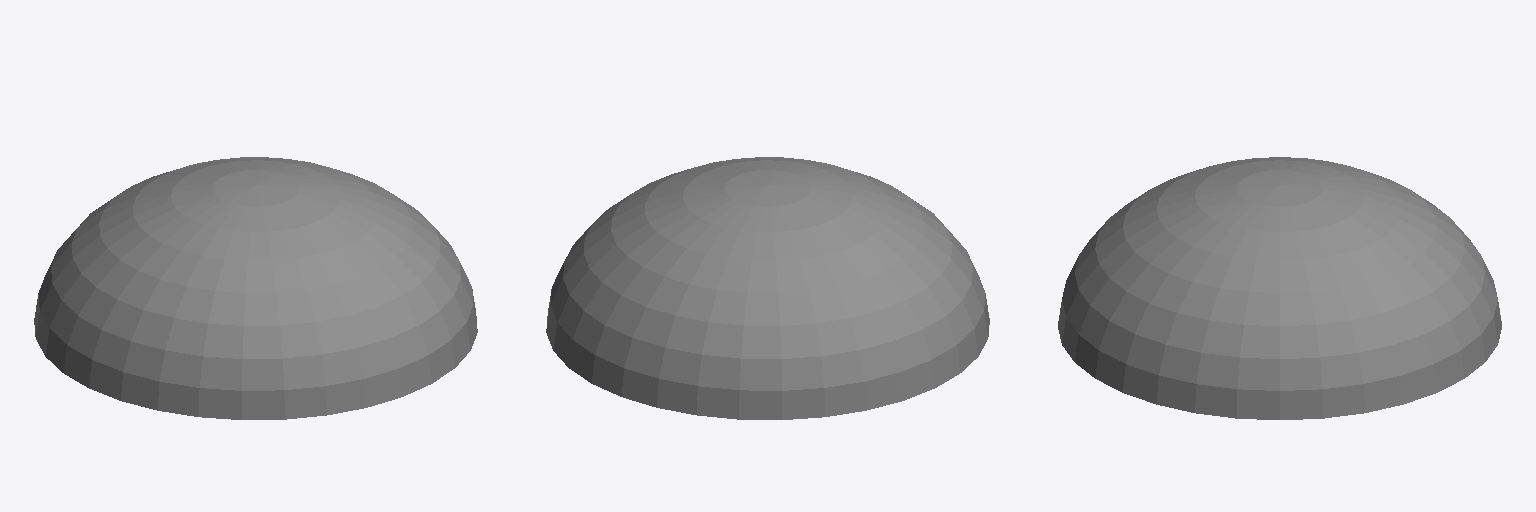
The model's file is Skydome.obj.
The picture shows the model from 3 angles: view 1: azimuth 30°, elevation 25°; view 2: azimuth 150°, elevation 25°; view 3: azimuth 270°, elevation 25°; orthographic projection.
Visible parts, largest first — view 1: skydome; view 2: skydome; view 3: skydome.
Part boxes in pixels (left/top/right/bottom): skydome: left=34, top=157, right=477, bottom=419; skydome: left=546, top=157, right=989, bottom=419; skydome: left=1058, top=157, right=1501, bottom=419.
Size of the model in its own units: 450 by 158 by 450.